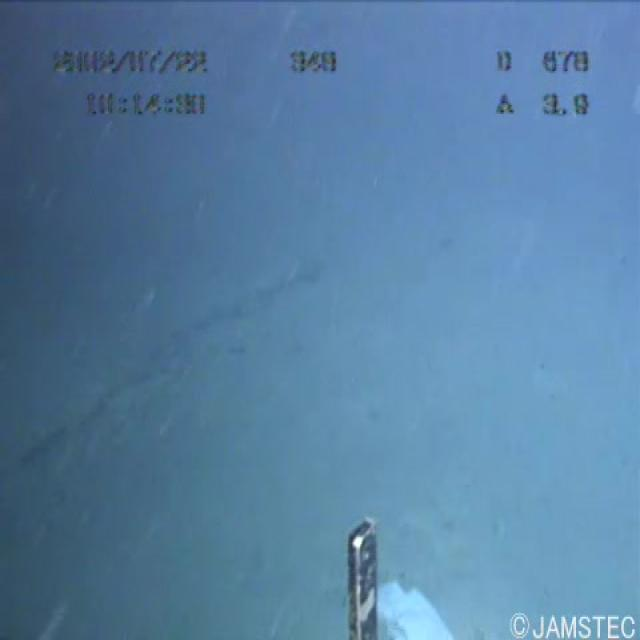plastic: (372, 528, 483, 638)
